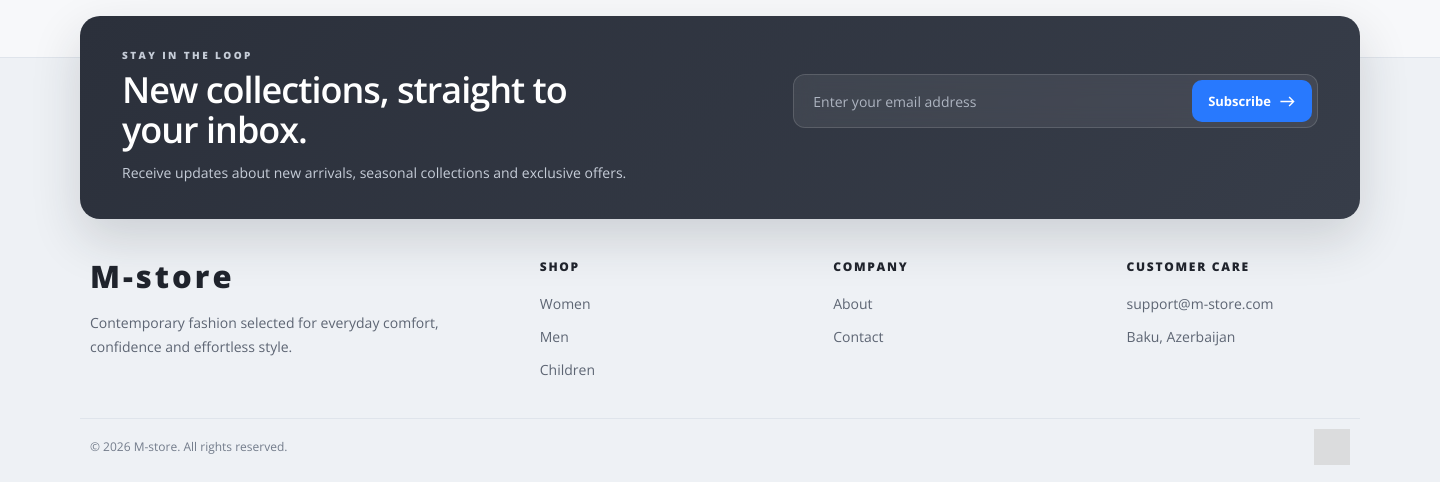
Test: validates the email and confirms a local demo subscription
Click the button "Subscribe" at (1252,101), box [1192,80,1312,122]
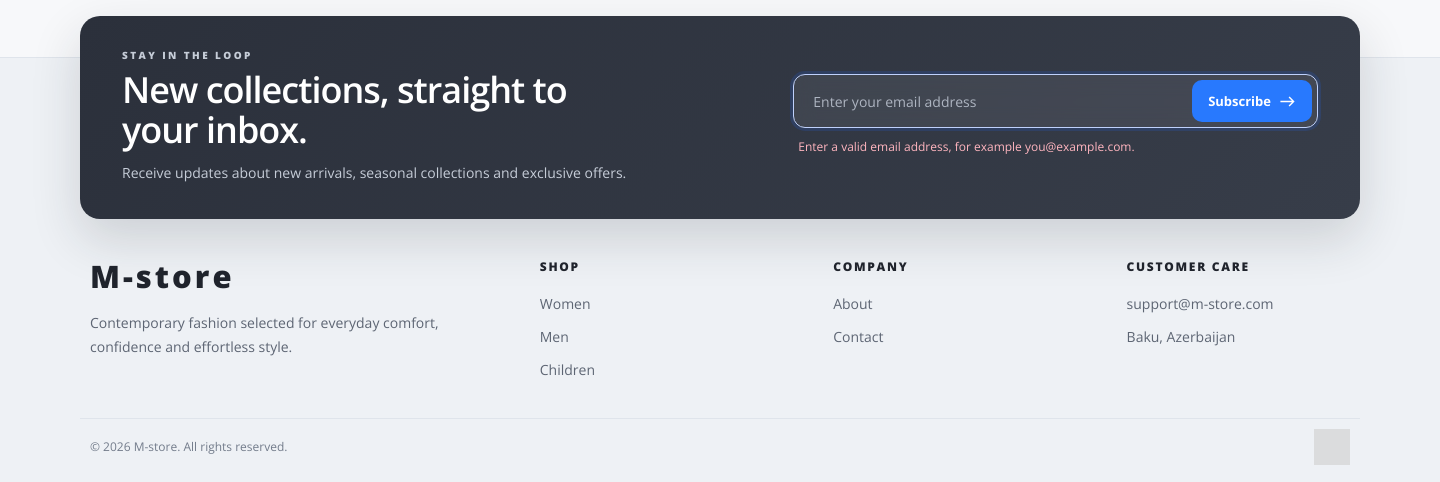
Check: the text "Enter a valid email address, for example you@example.com." is shown, box [798,138,1135,155]
Type "viewer@example.com" into the field labelled "email address" at (996,101), box [799,80,1192,122]
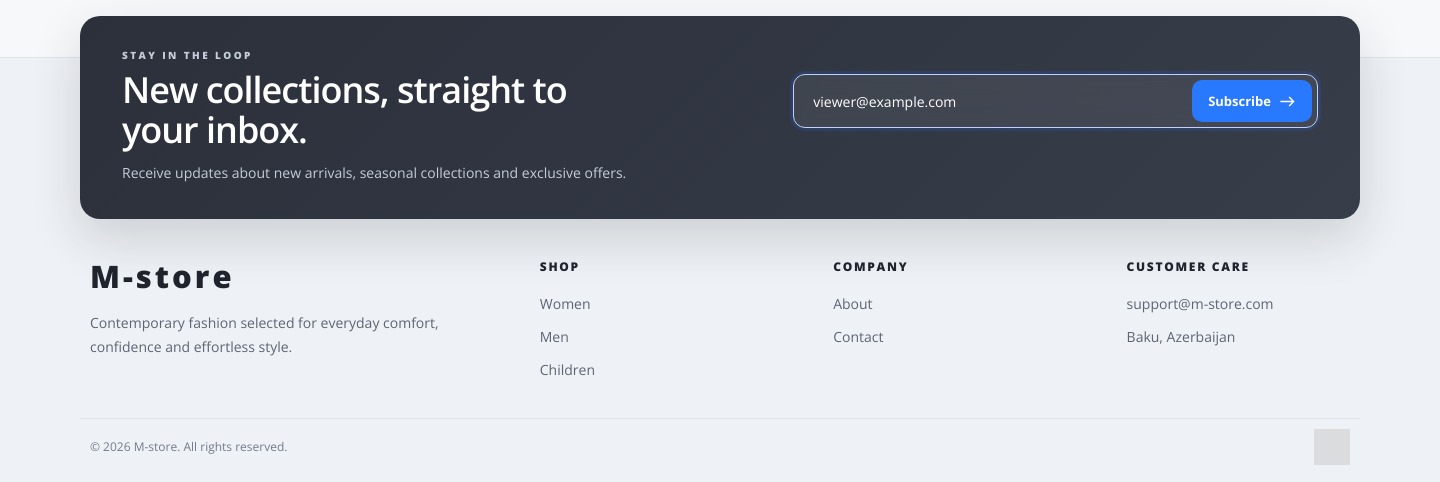
Click the button "Subscribe" at (1252,101), box [1192,80,1312,122]
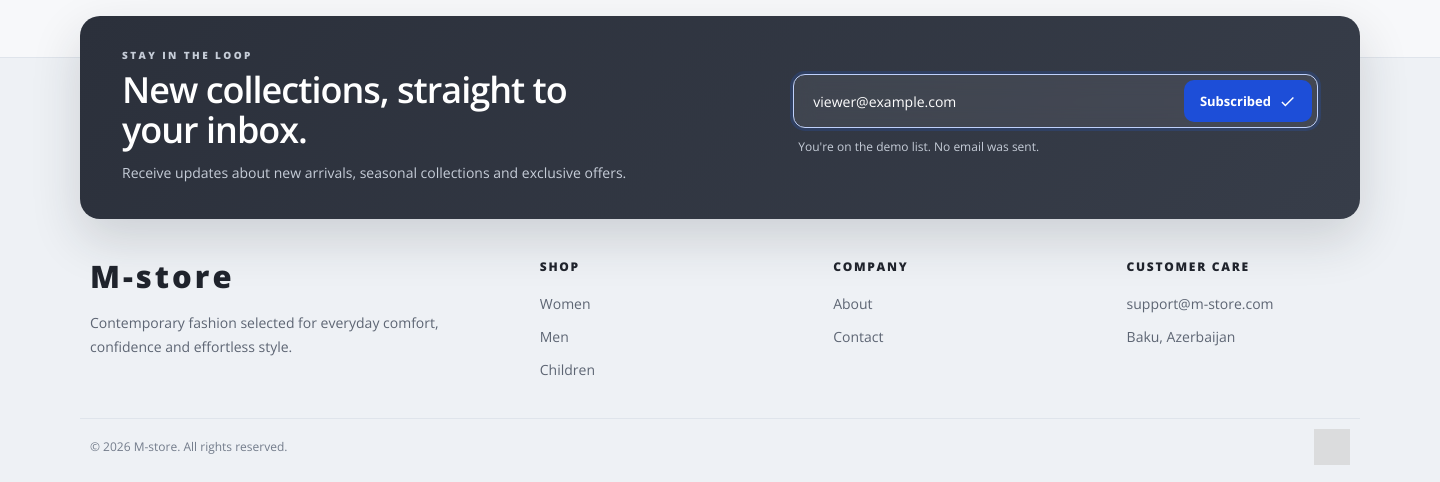
Check: the text "You're on the demo list. No email was sent." is shown, box [798,138,1039,155]
Check: the button "Subscribed" is disabled, box [1184,80,1312,122]
Replace the text in the field named "email address" with "another@example.com" at (992,101), box [799,80,1184,122]
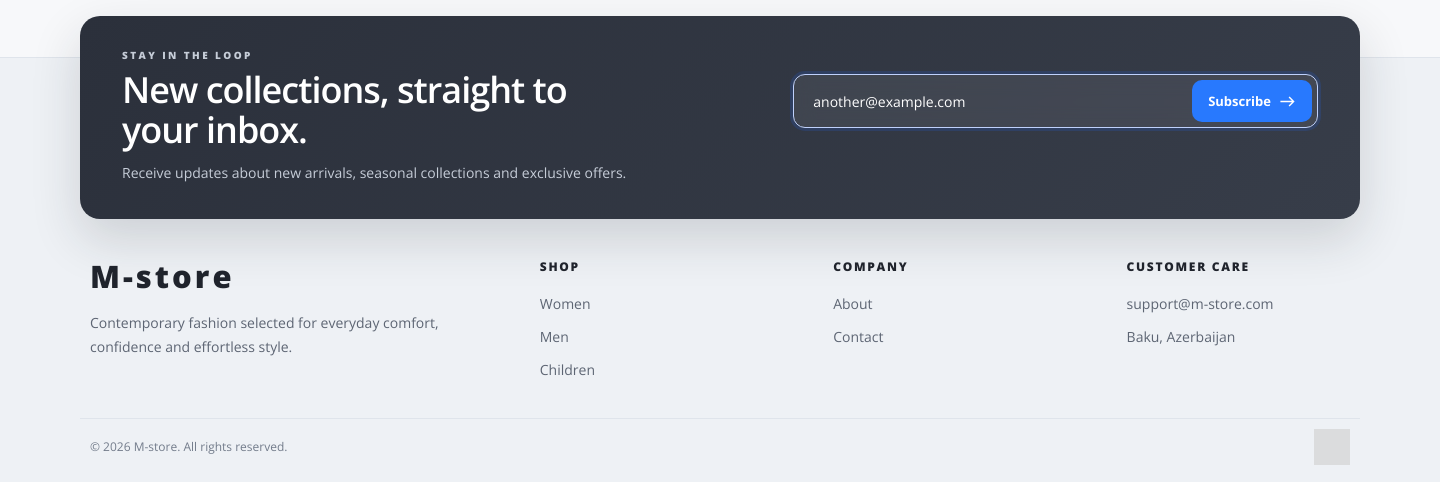
Check: the button "Subscribe" is enabled, box [1192,80,1312,122]
